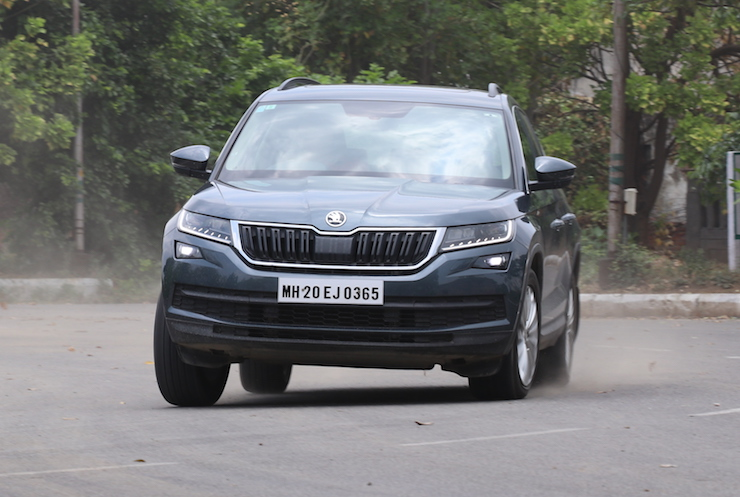number_plate: (274, 273, 388, 309)
